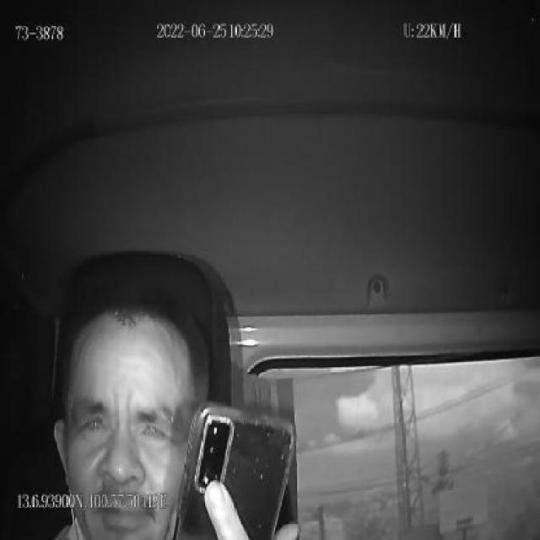phone: (179, 401, 295, 540)
